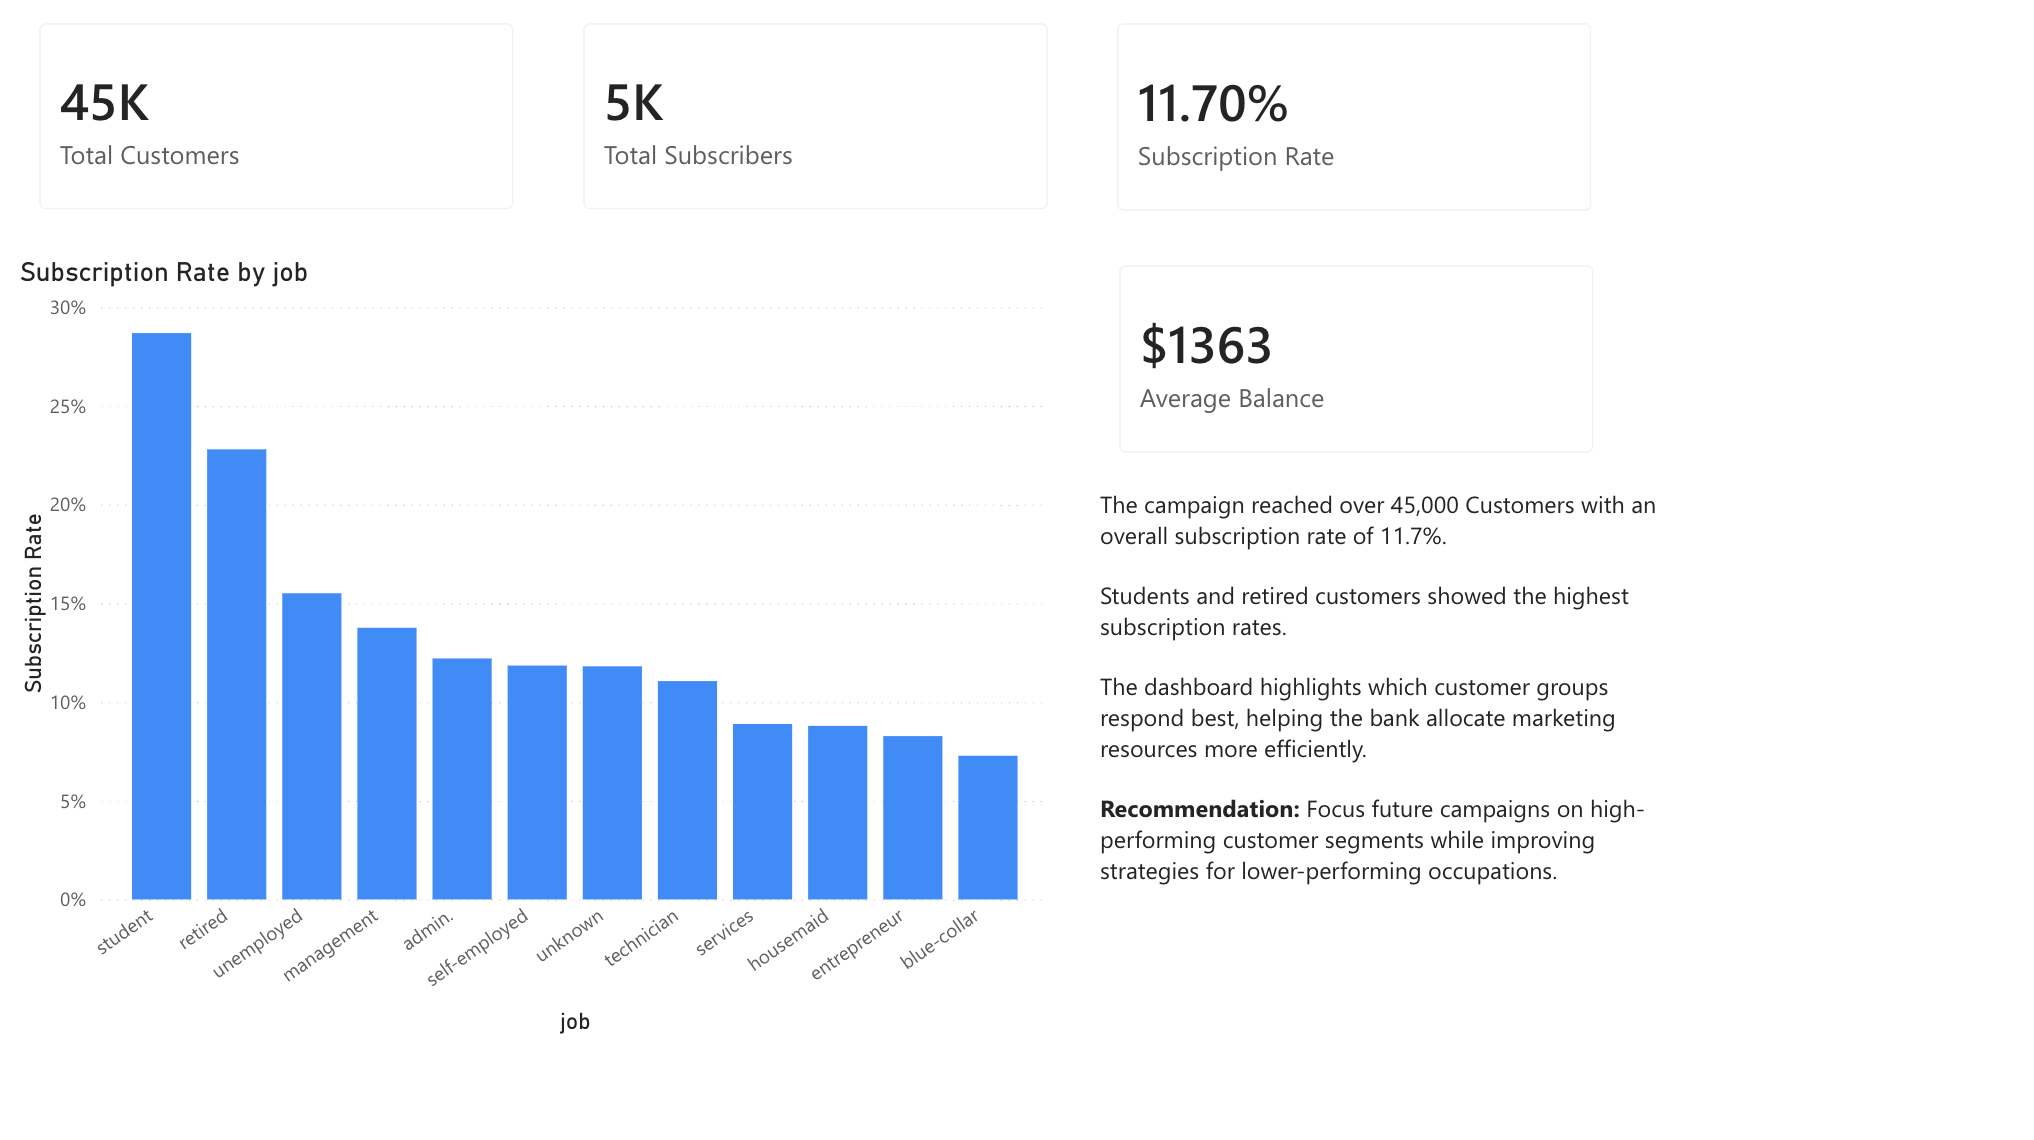

The dashboard page shown, as its layout file describes it:
{"tool":"powerbi","page":{"name":"Campaign Overview","canvas":[1280,720],"ordinal":0},"visuals":[{"type":"cardVisual","fields":{"Data":["bank_campaign_dashboard.Total Customers"]},"box":[9.5,0,332.2,151.8],"z":0},{"type":"cardVisual","fields":{"Data":["bank_campaign_dashboard.Subscription Rate"]},"box":[686.9,0,332,152],"z":1},{"type":"cardVisual","fields":{"Data":["bank_campaign_dashboard.Average Balance"]},"box":[688,151.8,332,152],"z":2},{"type":"cardVisual","fields":{"Data":["bank_campaign_dashboard.Total Subscribers"]},"box":[351.1,0,326.2,151.8],"z":3},{"type":"clusteredColumnChart","fields":{"Category":["bank_campaign_dashboard.job"],"Y":["bank_campaign_dashboard.Subscription Rate"]},"box":[9.5,166.1,656,491.1],"z":4},{"type":"textbox","box":[688.4,304,379.4,353],"z":5}]}

Visuals, with their boxes in screenshot pixels (x1, y1, x2, y2), scaled from the page's 1280x720 canvas onto the 2034x1140 screenshot:
cardVisual - bank_campaign_dashboard.Total Customers: 15 0 543 240
cardVisual - bank_campaign_dashboard.Subscription Rate: 1092 0 1619 241
cardVisual - bank_campaign_dashboard.Average Balance: 1093 240 1621 481
cardVisual - bank_campaign_dashboard.Total Subscribers: 558 0 1076 240
clusteredColumnChart - bank_campaign_dashboard.job x bank_campaign_dashboard.Subscription Rate: 15 263 1058 1041
textbox: 1094 481 1697 1040
